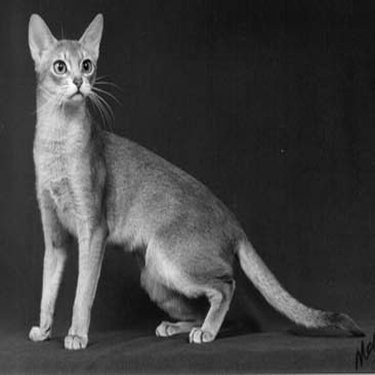cat: (3, 2, 358, 346)
